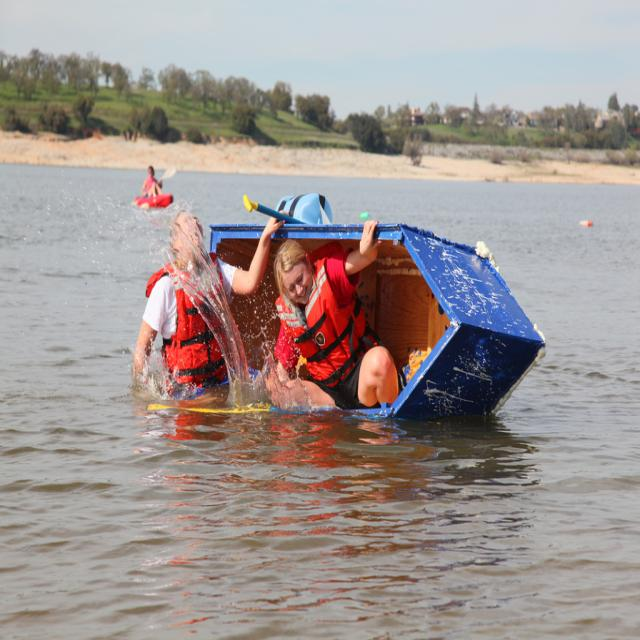Boat: (199, 227, 562, 423)
